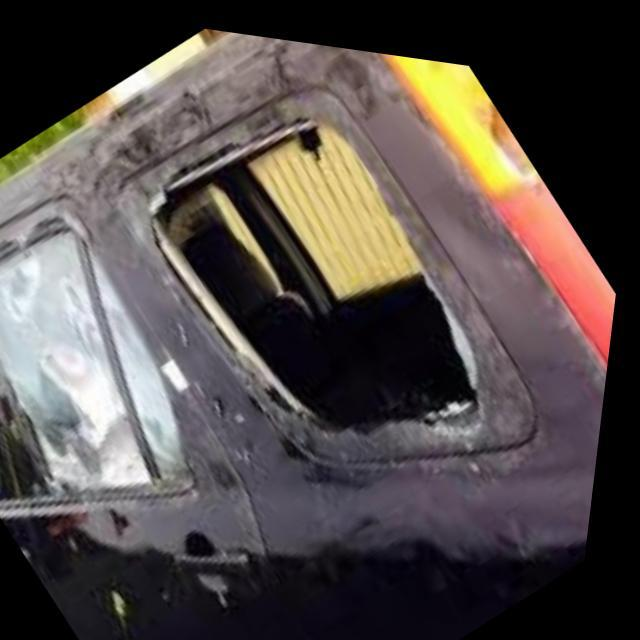glass shatter: (125, 100, 516, 455)
